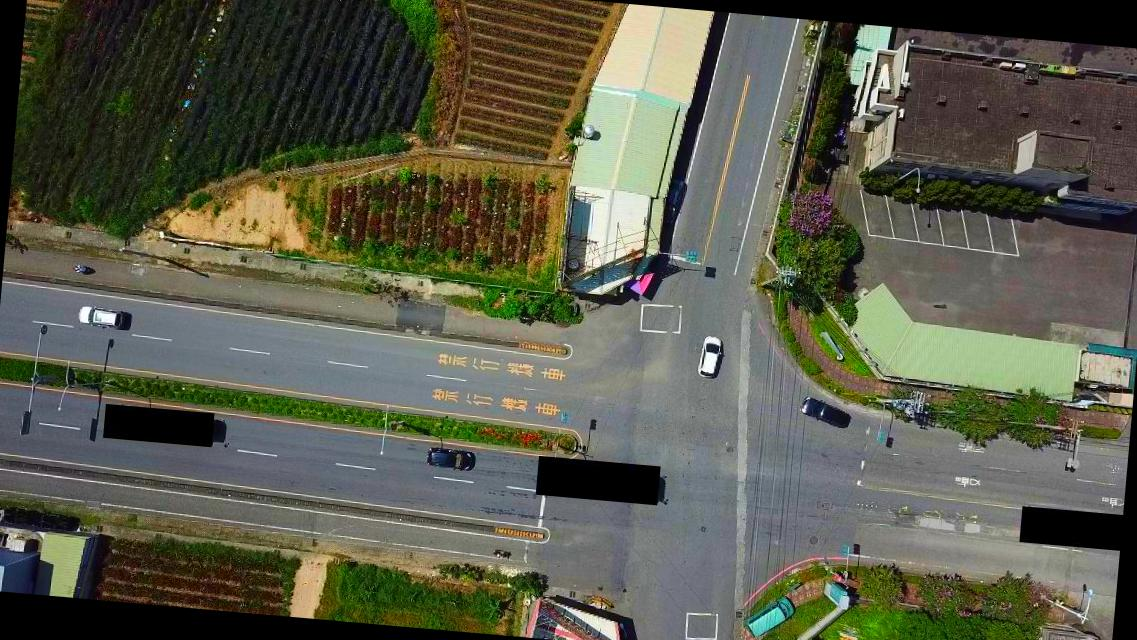vehicle: (740, 593, 799, 639), (795, 395, 852, 430), (424, 445, 476, 474), (694, 334, 724, 378), (75, 306, 128, 330)
